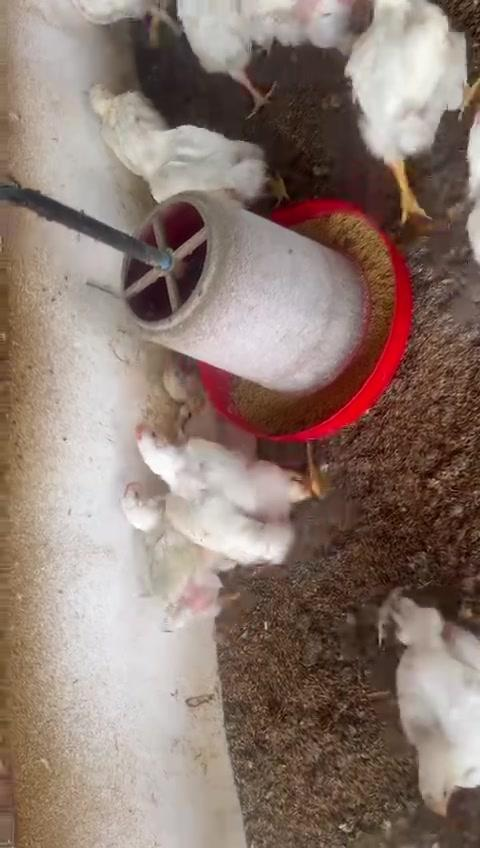AbNormal: (85, 79, 170, 165), (164, 355, 217, 456)
Normal: (347, 0, 477, 220), (132, 424, 322, 561), (392, 597, 480, 818), (124, 485, 241, 626), (120, 112, 286, 209), (175, 0, 285, 109), (255, 0, 357, 59), (64, 0, 198, 44)
